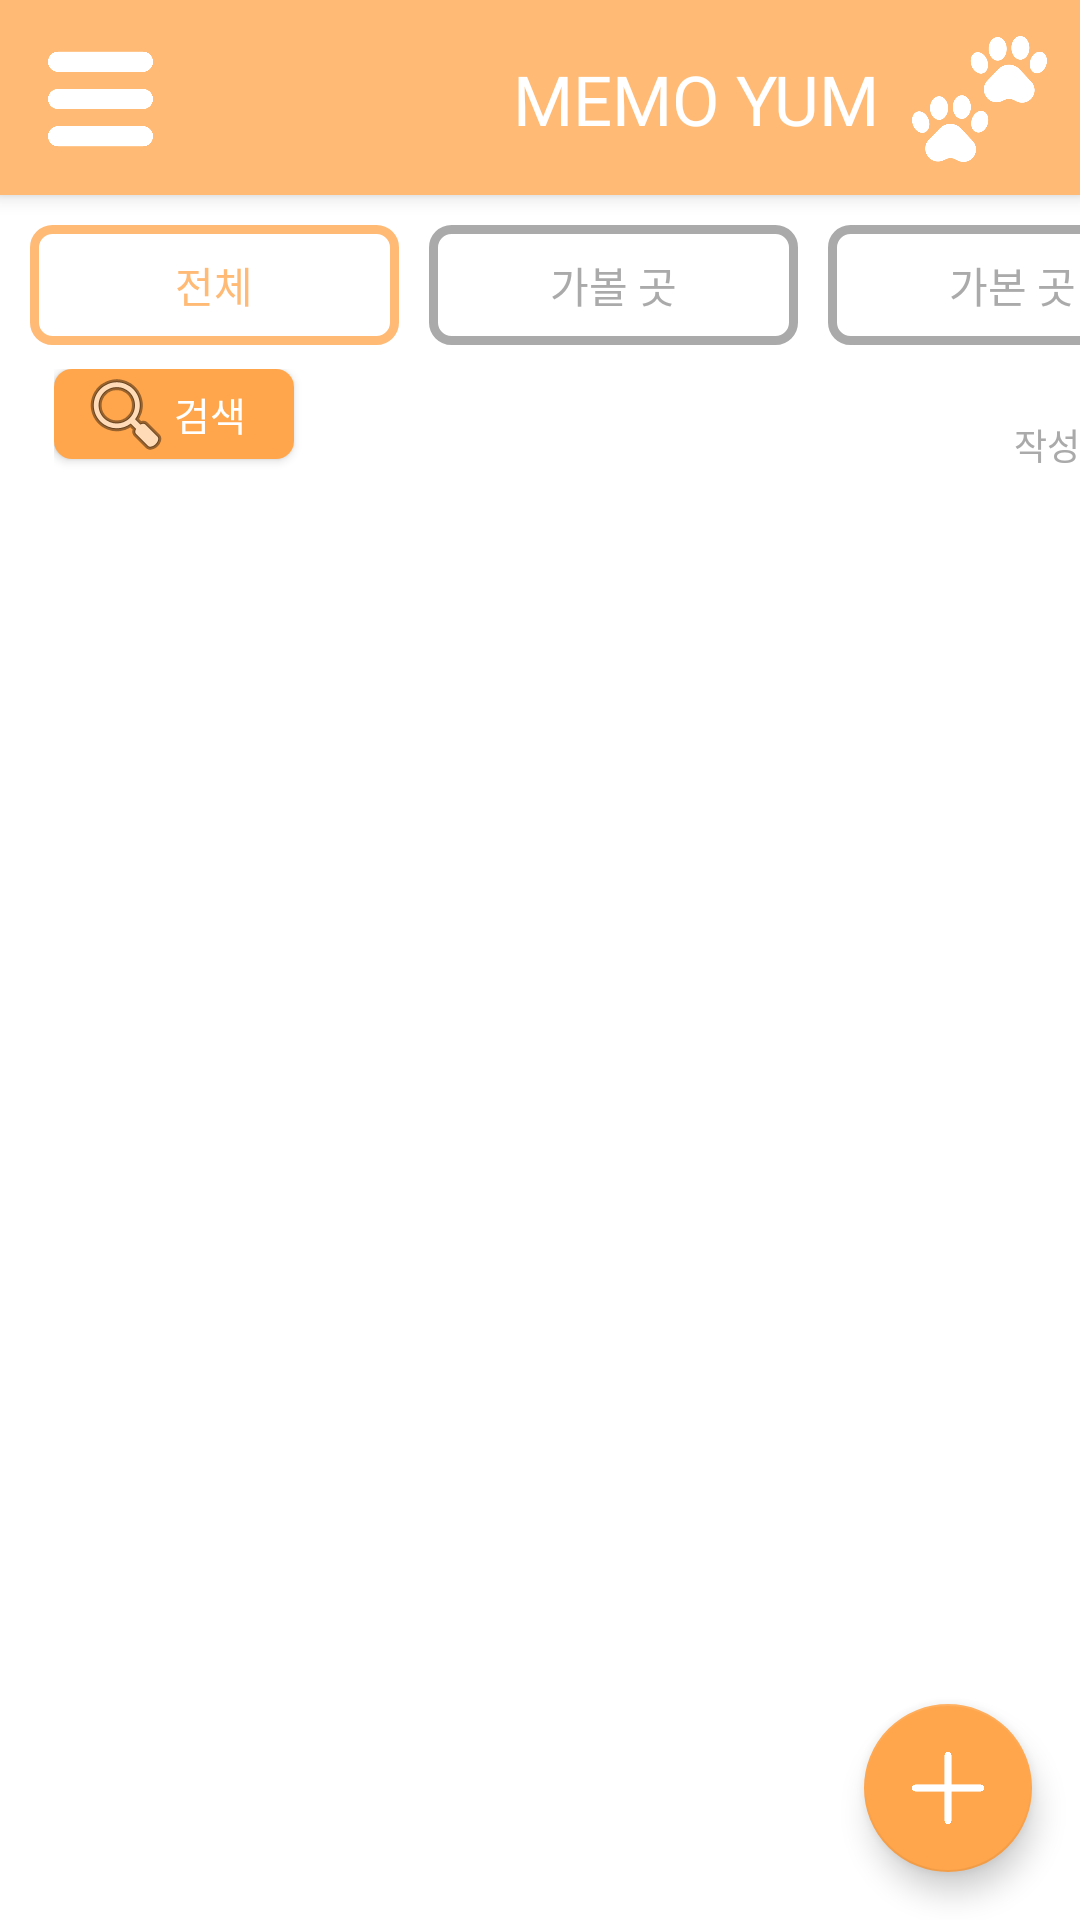

Screen size 1080px×1920px. Icon name, then its box in pixels as (x1, y1, x2, y2):
Add Memo: (864, 1704, 1032, 1872)
menu: (48, 52, 153, 146)
pawprint: (912, 36, 1047, 162)
